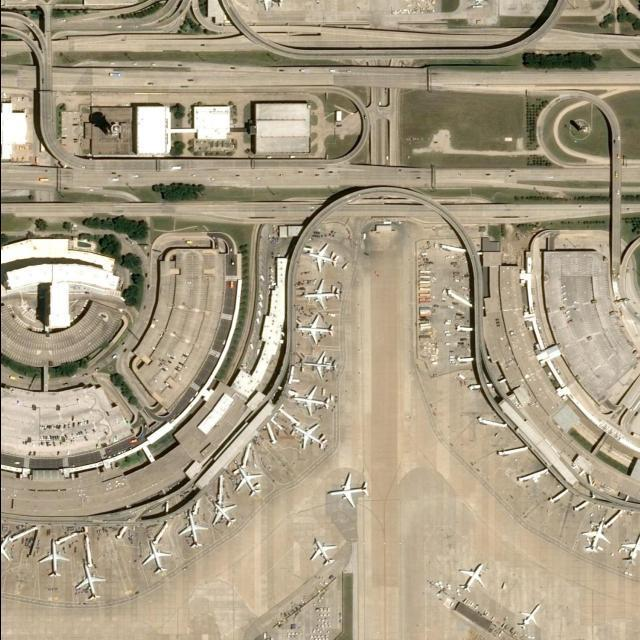Aircraft: (325, 473, 367, 507), (36, 542, 70, 578), (74, 563, 104, 601), (297, 314, 333, 344), (291, 384, 329, 412), (175, 512, 203, 548), (303, 279, 338, 307), (230, 465, 261, 495), (140, 540, 166, 574), (290, 424, 324, 449), (457, 561, 485, 591), (306, 539, 338, 565), (581, 520, 607, 552), (209, 499, 237, 527), (304, 352, 334, 376), (309, 248, 341, 268), (517, 603, 543, 627), (621, 528, 640, 560), (253, 0, 284, 9)
